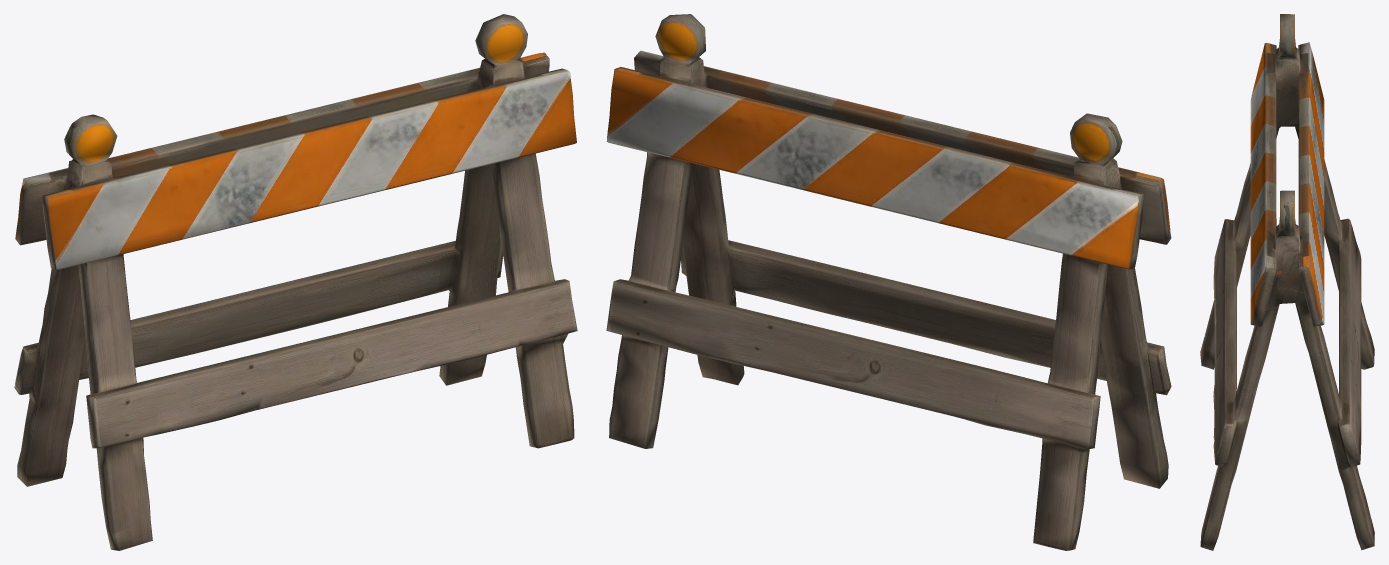
Rendered from barricade-web.glb.
3 renders of one model, left to right at view 1: azimuth 30°, elevation 25°; view 2: azimuth 150°, elevation 25°; view 3: azimuth 270°, elevation 25°, orthographic. The views are drawn at different scales.
Visible parts, largest first — view 1: Mesh_0; view 2: Mesh_0; view 3: Mesh_0.
Boxes of the visible parts, bbox=[...] form: Mesh_0: bbox=[14, 14, 577, 550]; Mesh_0: bbox=[606, 14, 1171, 550]; Mesh_0: bbox=[1200, 14, 1374, 550].
Bounding box in the file's own units: 1.92 × 1.39 × 0.6306.
1 material, 1 textured.
